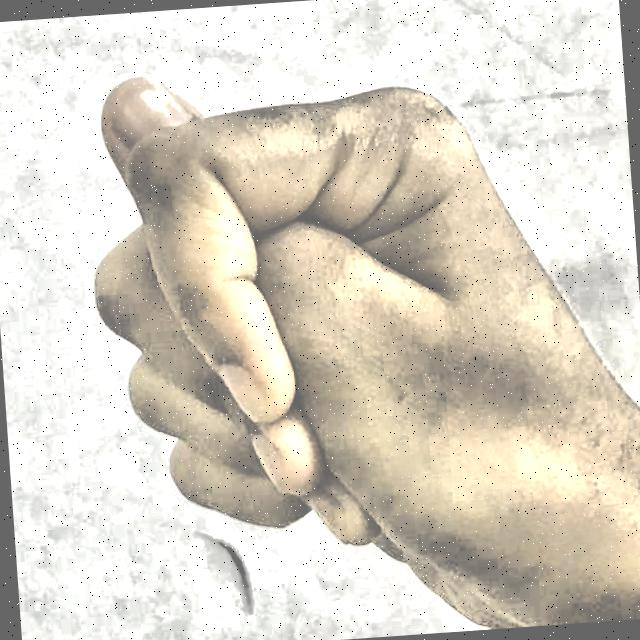Ta: (46, 0, 635, 640)
